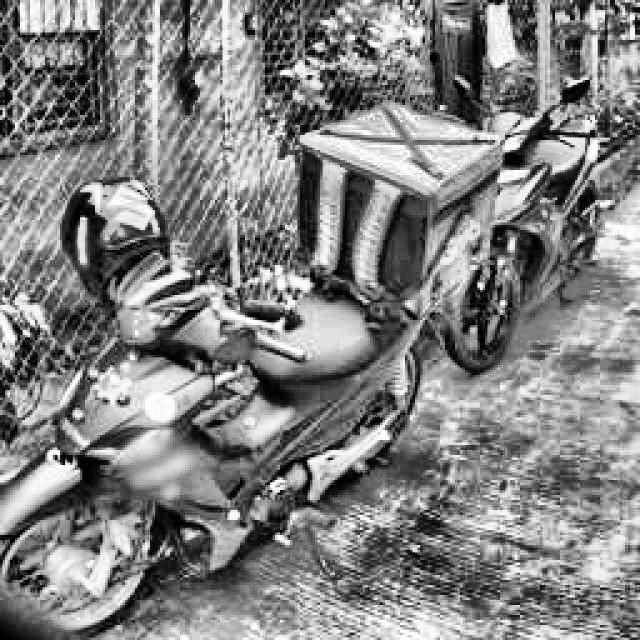motorcycle: (0, 101, 509, 640), (426, 68, 612, 378)
